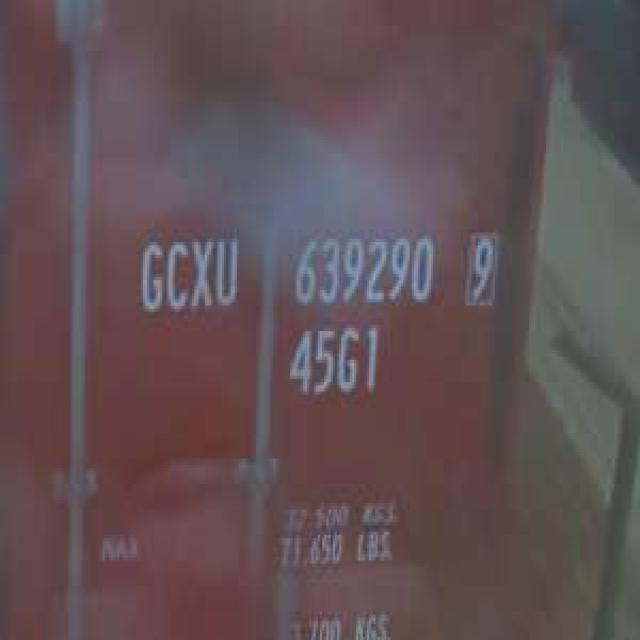dv: (461, 226, 501, 309)
owner: (132, 226, 243, 325)
serial: (286, 226, 437, 312)
size: (282, 318, 384, 404)
